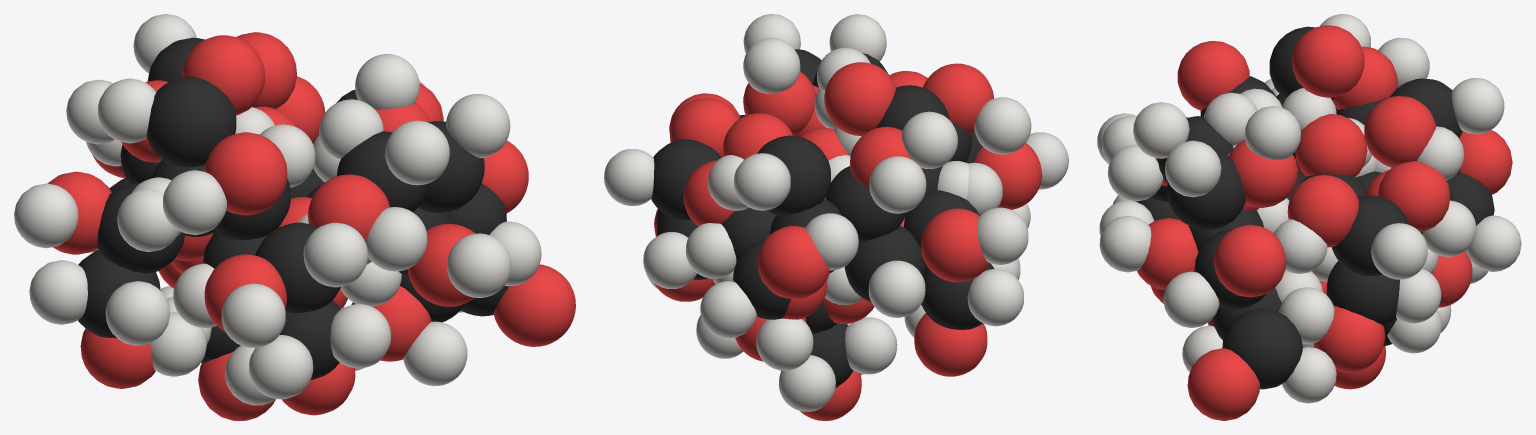
The model's file is sw_swjj_tshhw.fbx.
3 views of the same model, side by side, from view 1: azimuth 30°, elevation 25°; view 2: azimuth 150°, elevation 25°; view 3: azimuth 270°, elevation 25° (orthographic). The views are drawn at different scales.
Visible parts, largest first — view 1: sw_swjj_tshhw; view 2: sw_swjj_tshhw; view 3: sw_swjj_tshhw.
Boxes of the visible parts, <box> form: sw_swjj_tshhw: <box>14,14,575,420</box>; sw_swjj_tshhw: <box>604,14,1068,420</box>; sw_swjj_tshhw: <box>1097,14,1521,420</box>.
Bounding box in the file's own units: 12.04 × 9.41 × 10.48.
